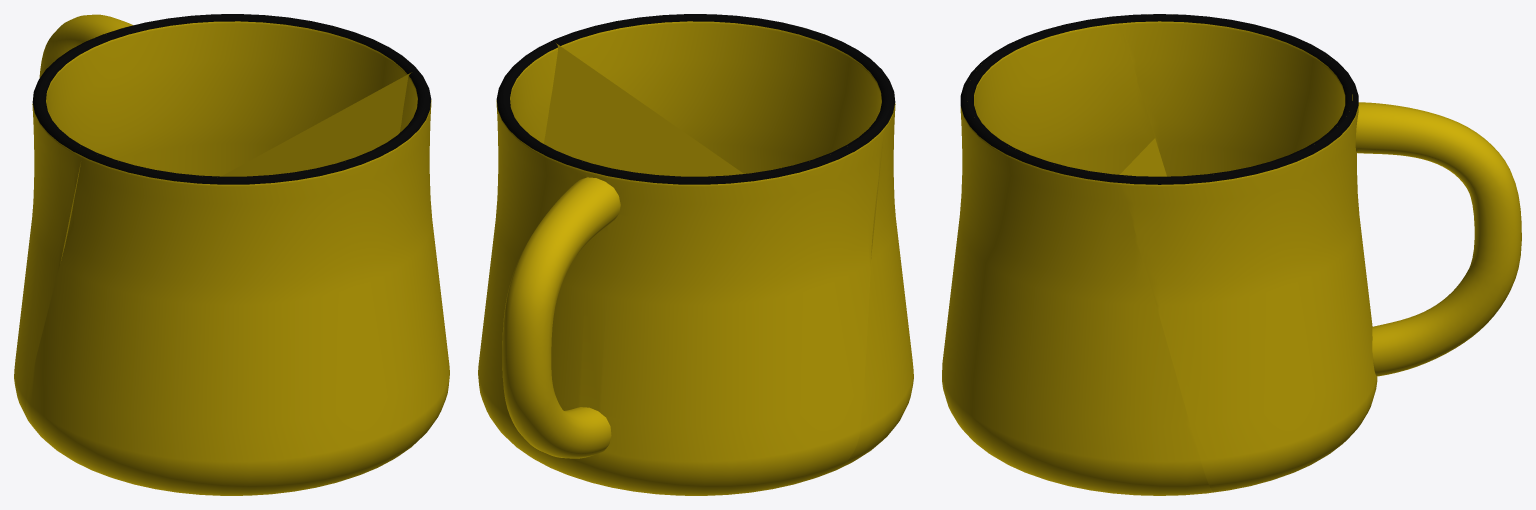
Rendered from Cup_01.fbx.
3 renders of one model, left to right at view 1: azimuth 30°, elevation 25°; view 2: azimuth 150°, elevation 25°; view 3: azimuth 270°, elevation 25°, orthographic.
Parts seen in each view (by area): view 1: Cup1_Part_02, Cup1_Part_01; view 2: Cup1_Part_01, Cup1_Part_02; view 3: Cup1_Part_01, Cup1_Part_02.
Boxes of the visible parts, left/top/right/bottom form: Cup1_Part_02: left=26, top=70, right=449, bottom=495; Cup1_Part_01: left=14, top=14, right=418, bottom=422; Cup1_Part_01: left=478, top=41, right=884, bottom=495; Cup1_Part_02: left=544, top=14, right=913, bottom=471; Cup1_Part_01: left=1119, top=14, right=1521, bottom=492; Cup1_Part_02: left=942, top=16, right=1213, bottom=495.
Bounding box in the file's own units: 2308 × 1898 × 3070.
